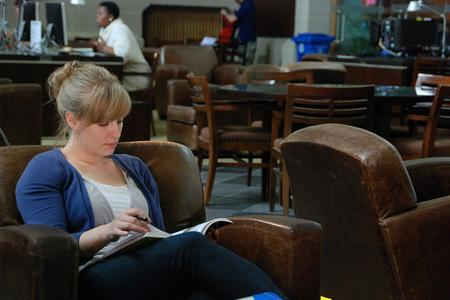person: (15, 59, 291, 300)
